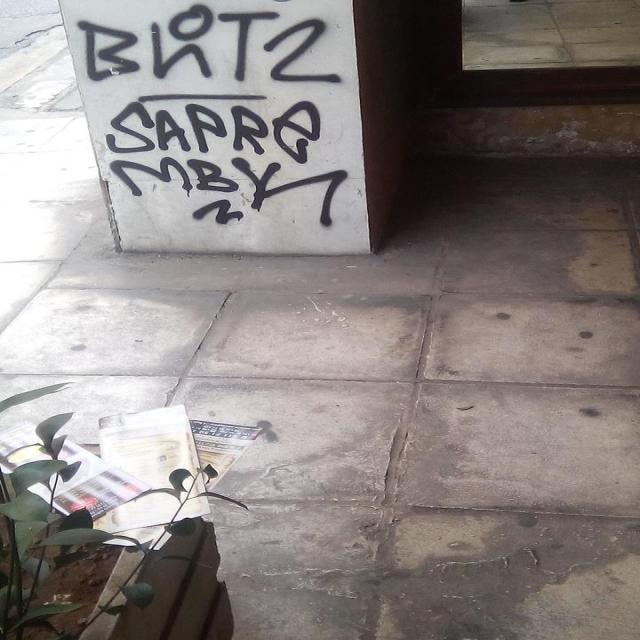nonspitting: (78, 1, 346, 229)
